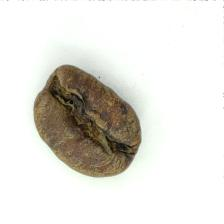NG: (41, 67, 128, 165)
